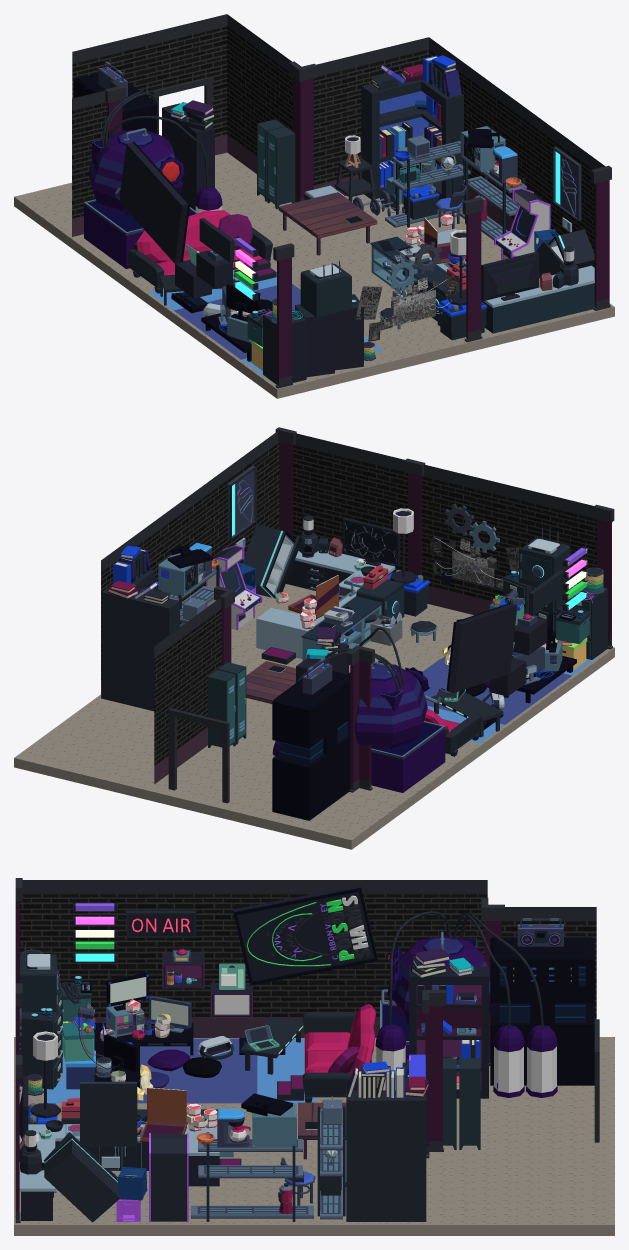
Rendered from INT_Home.fbx.
3 renders of one model, top to bottom at view 1: azimuth 30°, elevation 25°; view 2: azimuth 150°, elevation 25°; view 3: azimuth 270°, elevation 25°, orthographic. The views are drawn at different scales.
Visible parts, largest first — view 1: Cube.479, Cube.477, LBookshelf.007, Cube.534, Cube.502, Cube.481, Cylinder.578, Cube.483, Cube.493, Cube.491, Plane.129, Cube.494 (+31 smaller); view 2: Cube.479, Cube.477, Cube.488, LBookshelf.007, Cylinder.578, Cube.534, Cube.502, Cube.481, Cube.491, Cube.544, Plane.022, Cube.503 (+30 smaller); view 3: Cube.479, Cube.477, Cube.488, Cube.502, LBookshelf.007, Cylinder.805, Plane.022, Cube.534, Bookshelf01.019, Cube.483, Cube.481, Cube.492 (+42 smaller).
Boxes of the visible parts, box(x1,y1,x2,y2) form: Cube.479: box(72, 14, 611, 388); Cube.477: box(14, 152, 614, 398); LBookshelf.007: box(361, 76, 463, 199); Cube.534: box(246, 294, 363, 384); Cube.502: box(119, 141, 190, 263); Cube.481: box(404, 228, 594, 333); Cylinder.578: box(88, 128, 185, 215); Cube.483: box(128, 210, 272, 293); Cube.493: box(385, 136, 470, 227); Cube.491: box(370, 236, 487, 340); Plane.129: box(355, 275, 458, 341); Cube.494: box(278, 192, 377, 255); Cube.479: box(101, 427, 614, 803); Cube.477: box(14, 584, 614, 849); Cube.488: box(272, 671, 350, 820); LBookshelf.007: box(101, 570, 179, 711); Cylinder.578: box(347, 660, 447, 748); Cube.534: box(489, 567, 607, 669); Cube.502: box(446, 603, 517, 692); Cube.481: box(256, 550, 395, 658); Cube.491: box(301, 569, 429, 660); Cube.544: box(371, 721, 445, 792); Plane.022: box(422, 656, 597, 743); Cube.503: box(242, 524, 295, 598); Cube.479: box(15, 878, 599, 1222); Cube.477: box(14, 1037, 614, 1235); Cube.488: box(490, 937, 594, 1085); Cube.502: box(233, 885, 377, 985); LBookshelf.007: box(346, 1062, 426, 1221); Cylinder.805: box(375, 911, 557, 1097); Plane.022: box(47, 1038, 315, 1103); Cube.534: box(19, 949, 119, 1089); Bookshelf01.019: box(409, 966, 488, 1098); Cube.483: box(302, 1004, 375, 1102); Cube.481: box(19, 1124, 219, 1220); Cube.492: box(191, 1132, 313, 1221).
Size of the model in its own units: 1281 by 539 by 1729.
